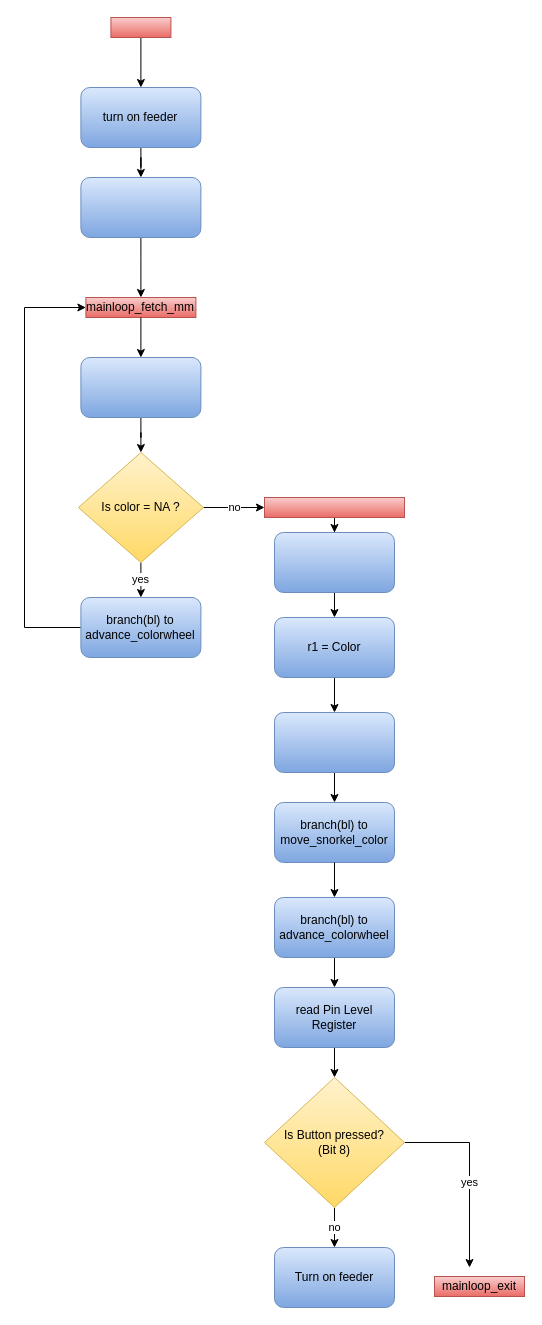
Image size: 542x1325. Some labels were removed from this diagram. The shapes that lost their labels are listed below. From the top down, each one's centre as x and y in pixels, then its label:
At point 140,27: "mainloop".
At point 140,207: "set RETREG = NA".
At point 140,387: "branch(bl) to get_color".
At point 334,507: "mainloop_fetch_mm_end".
At point 334,562: "turn off feeder".
At point 334,742: "branch(bl) to show_led".
